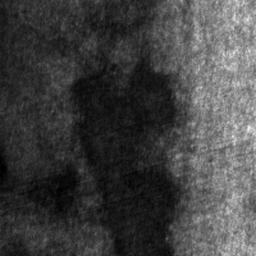Patches: (68, 54, 180, 256), (28, 160, 81, 220)
